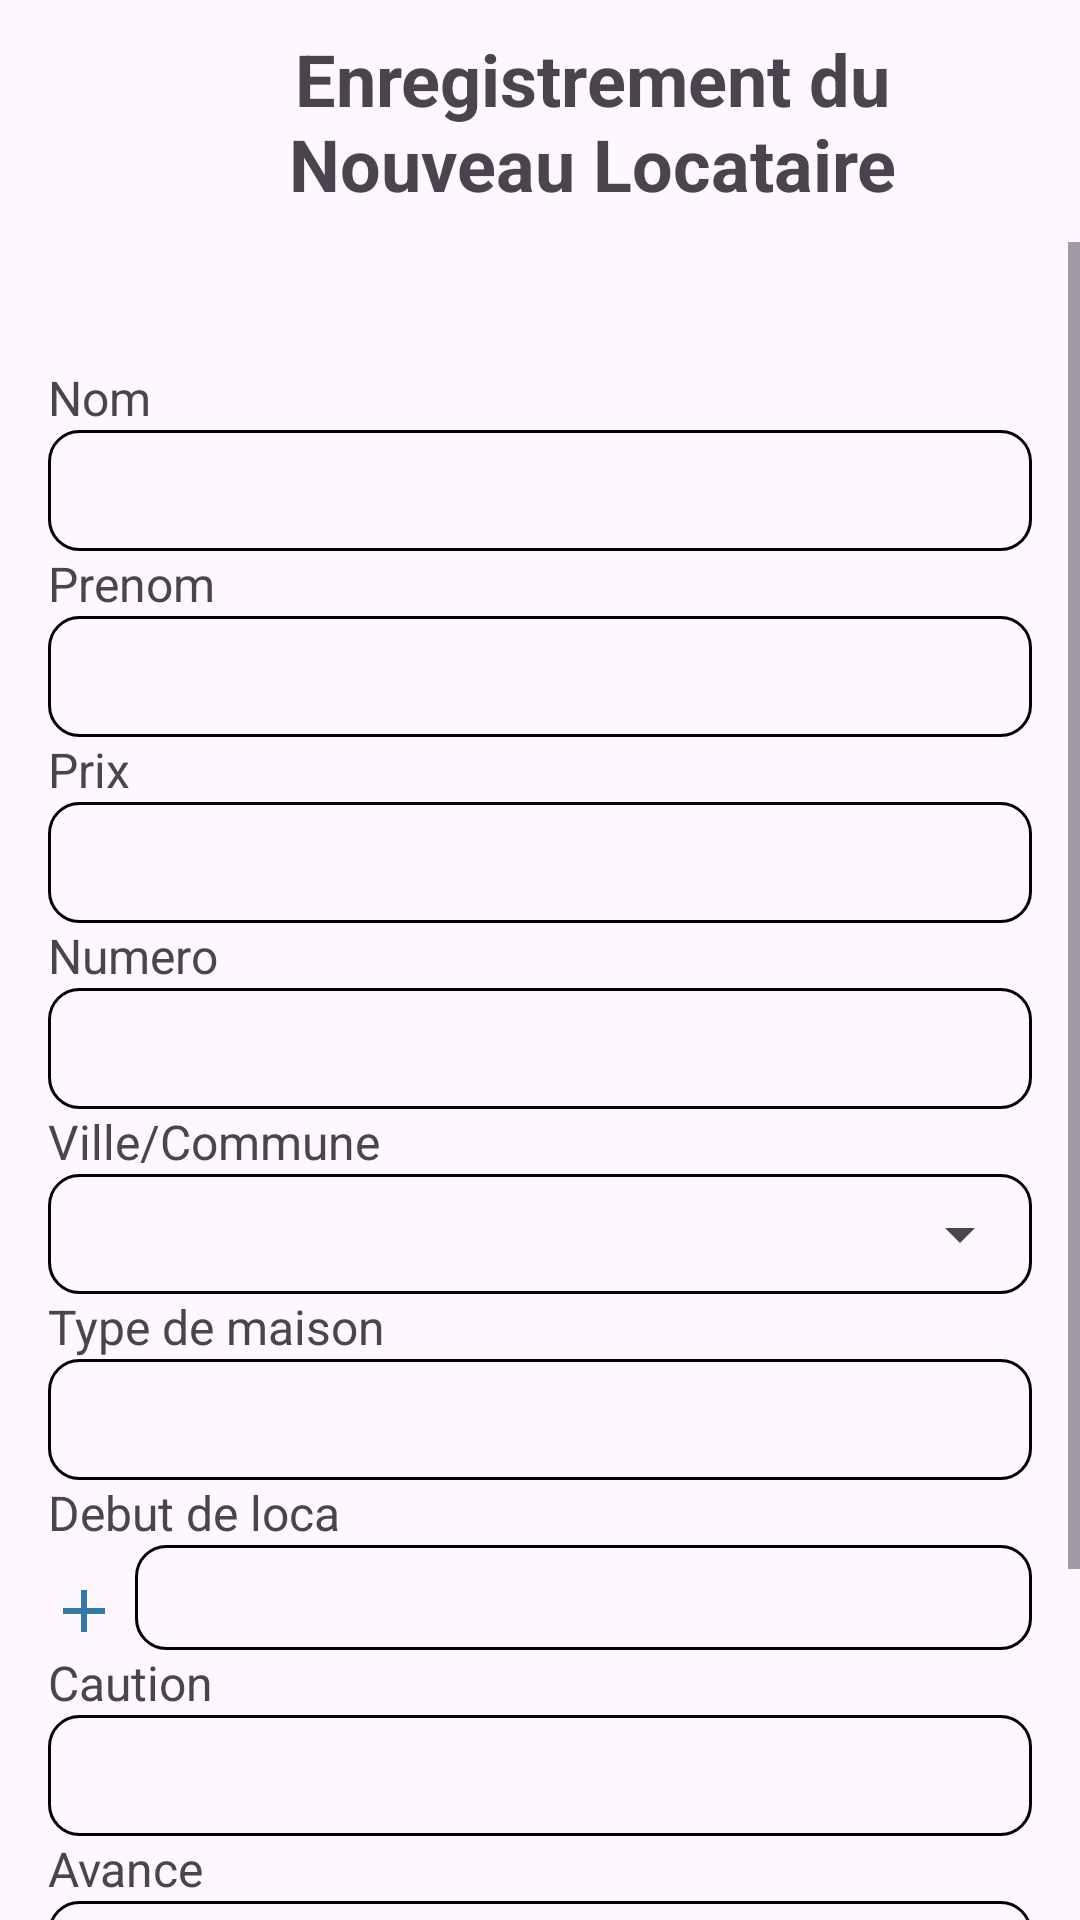

Named icons in this screenshot (1080x1920) and their centers, (x,y):
add: (84,1611)
